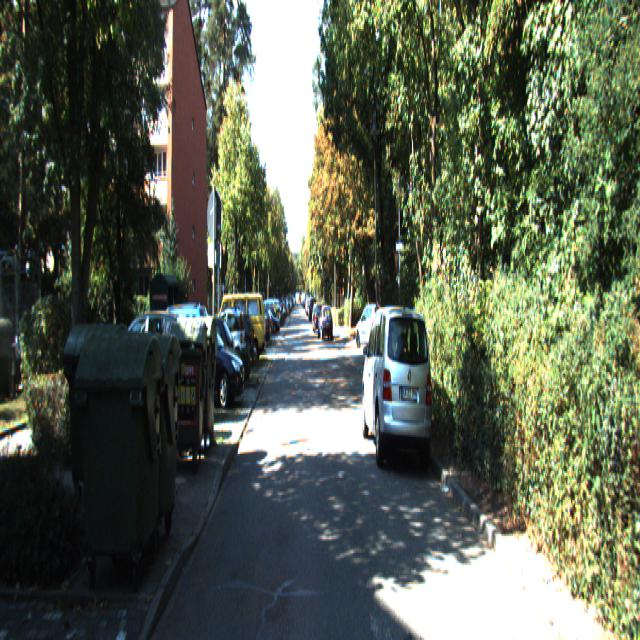Car: (359, 302, 436, 480), (169, 311, 246, 409), (216, 293, 266, 366), (203, 306, 248, 375), (355, 302, 388, 350), (318, 306, 333, 342)
